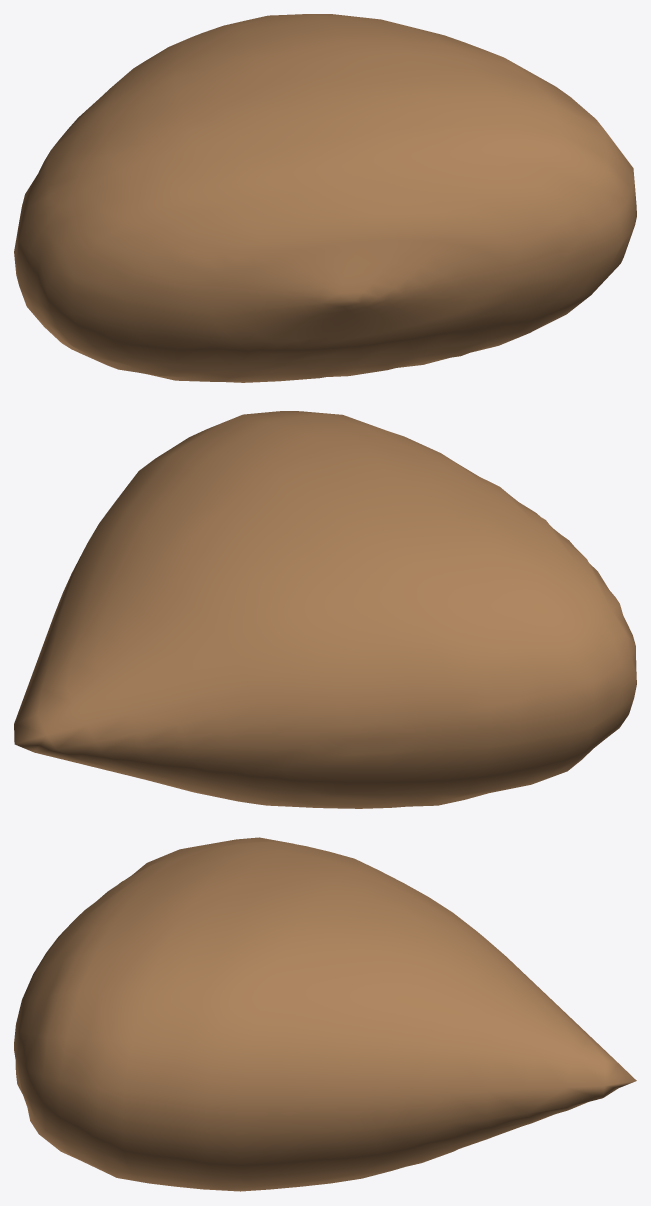
The model's file is fox tail.fbx.
3 views of the same model, one above another, from view 1: azimuth 30°, elevation 25°; view 2: azimuth 150°, elevation 25°; view 3: azimuth 270°, elevation 25° (orthographic). The views are drawn at different scales.
Parts seen in each view (by area): view 1: pCone3; view 2: pCone3; view 3: pCone3.
Part boxes in pixels (x1=…): pCone3: x1=14, y1=14, x2=636, y2=382; pCone3: x1=14, y1=411, x2=636, y2=808; pCone3: x1=14, y1=837, x2=636, y2=1191.
Size of the model in its own units: 0.0135 by 0.00691 by 0.0147.
